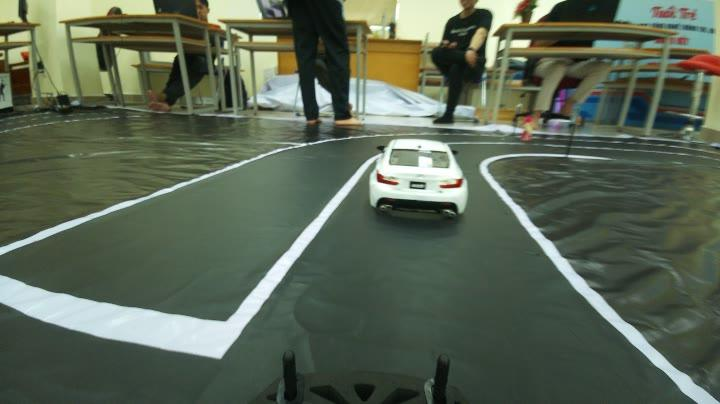car: (370, 127, 473, 223)
